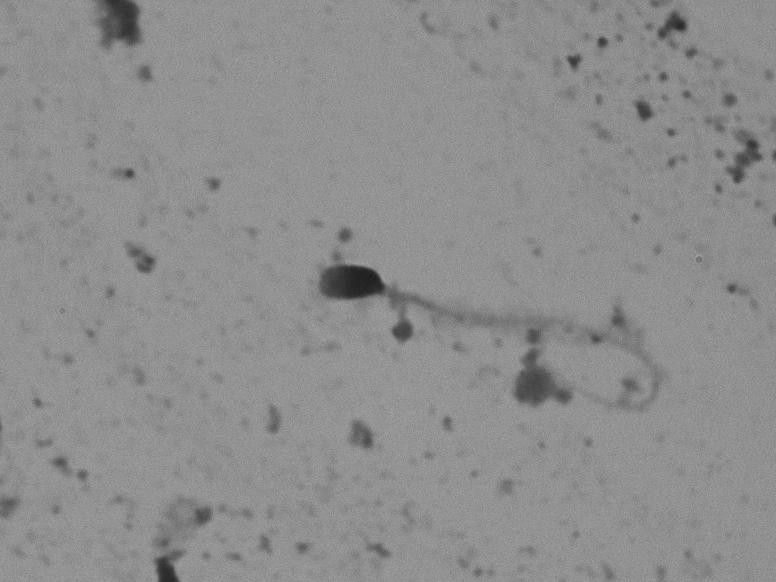Abnormal: (276, 236, 675, 423)
